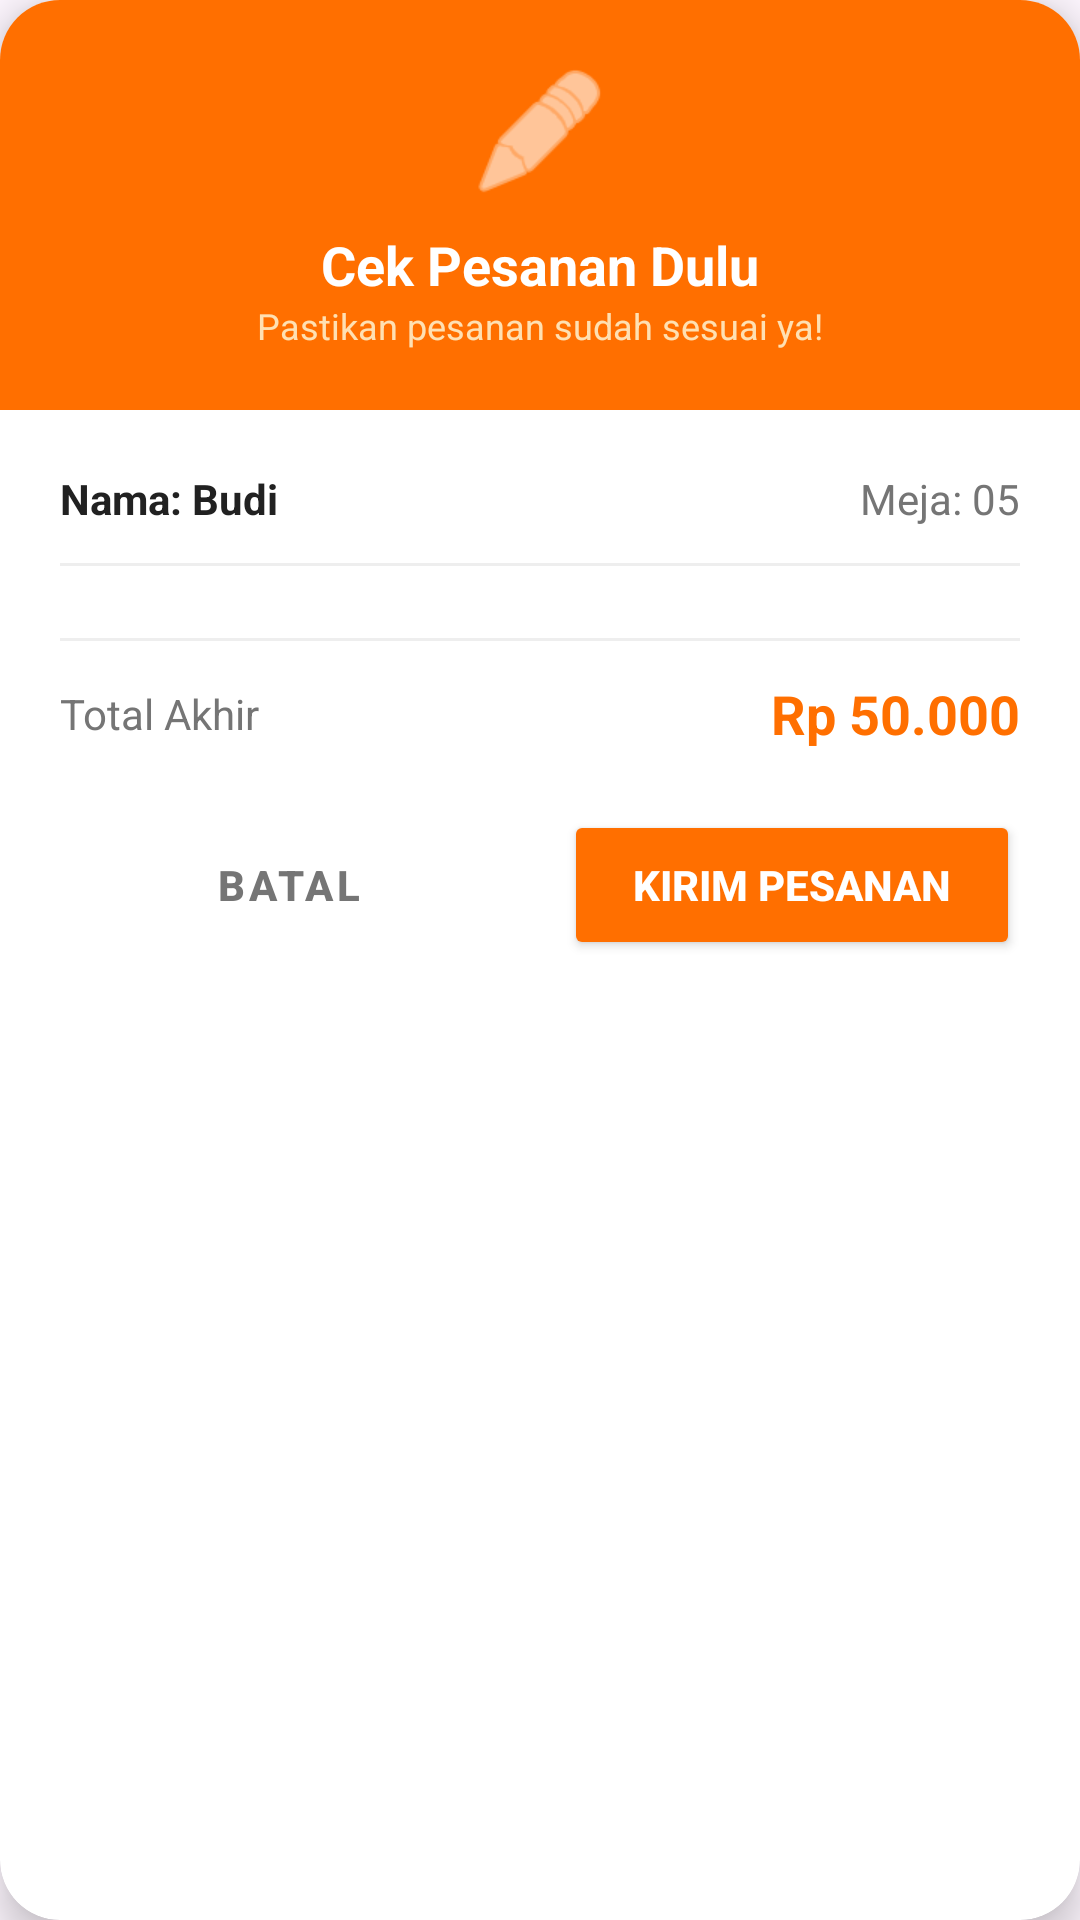

Named icons in this screenshot (1080w x 1920h) and their bounding boxes, (x1, y1, x2, y2):
edit: (478, 70, 600, 192)
